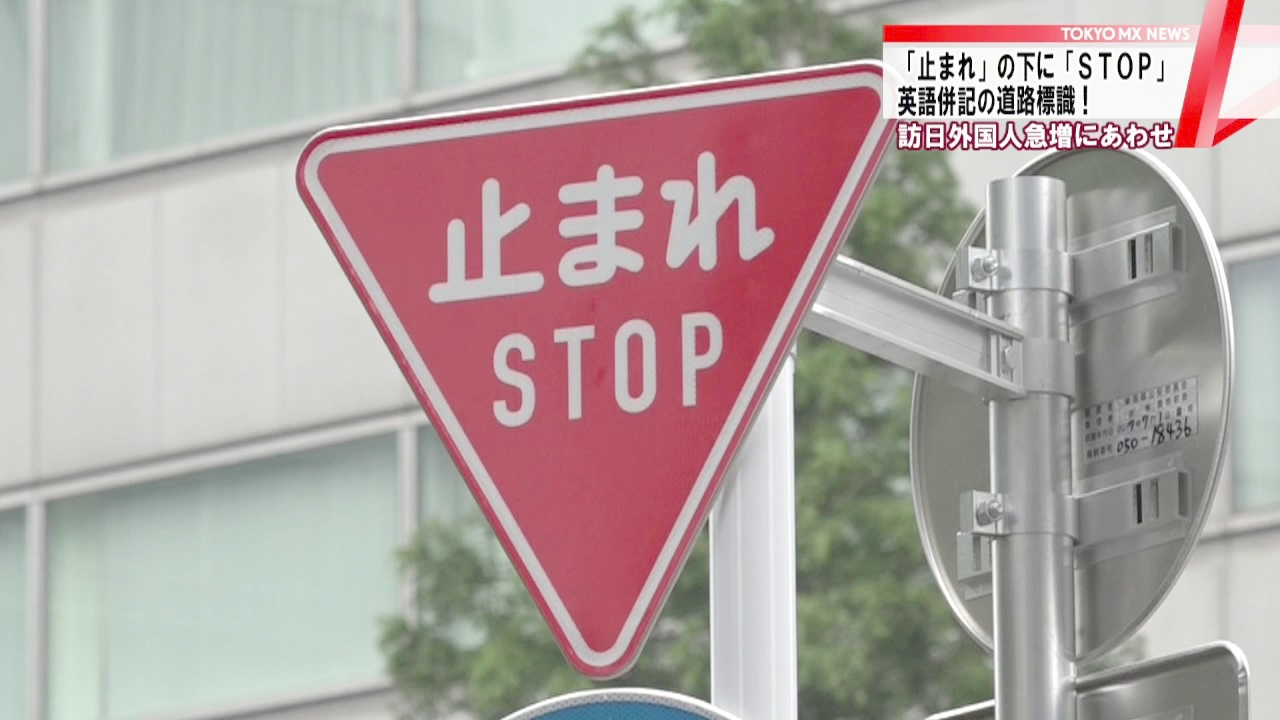Regulatory_sign_triangle: (293, 55, 908, 684)
